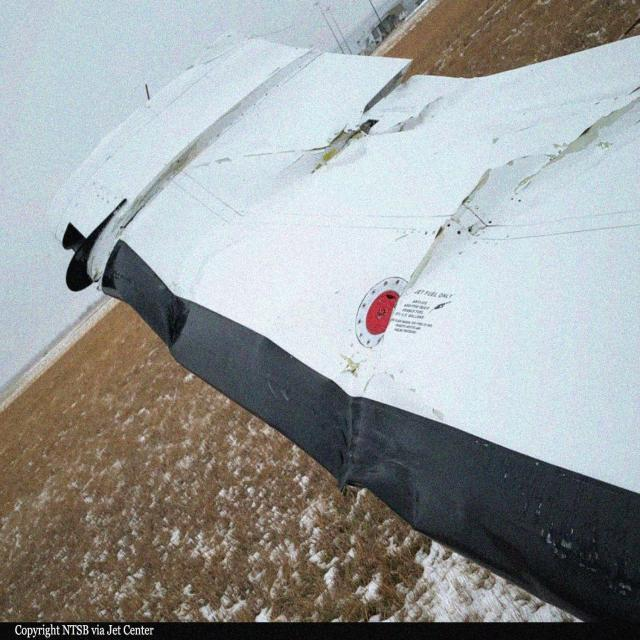crack: (399, 99, 640, 299), (314, 58, 426, 178)
